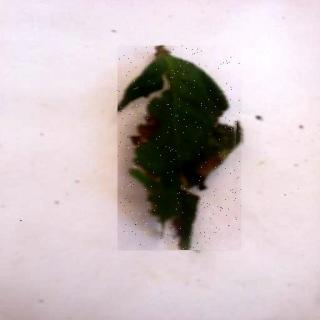Brown Blight: (119, 47, 244, 253)
